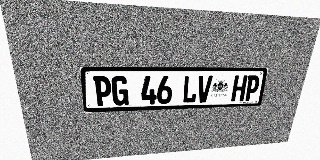4: (141, 76, 157, 105)
6: (157, 76, 173, 104)
G: (111, 76, 128, 106)
H: (231, 75, 248, 101)
L: (182, 76, 198, 103)
P: (93, 76, 112, 106), (243, 75, 261, 101)
V: (196, 75, 213, 103)
